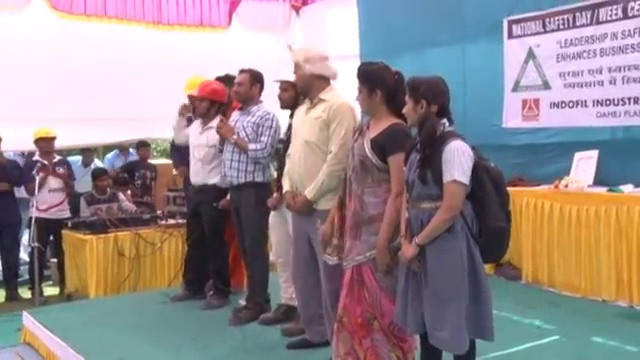helmet: (186, 79, 231, 106), (273, 63, 296, 84), (32, 129, 58, 143)
helmet_off: (351, 62, 404, 129), (399, 75, 455, 126), (293, 47, 333, 94), (229, 69, 264, 115), (90, 167, 113, 195), (136, 141, 151, 163), (79, 148, 96, 167), (116, 140, 134, 155)
helmet_on: (187, 77, 231, 121), (272, 64, 296, 109), (32, 129, 58, 157)
person: (399, 75, 513, 346), (272, 47, 358, 347), (340, 53, 417, 360), (217, 69, 282, 326), (172, 79, 232, 304), (261, 68, 308, 337), (24, 127, 73, 305), (0, 125, 27, 306), (79, 166, 143, 219), (116, 141, 158, 203), (66, 148, 103, 195), (103, 142, 139, 179)
